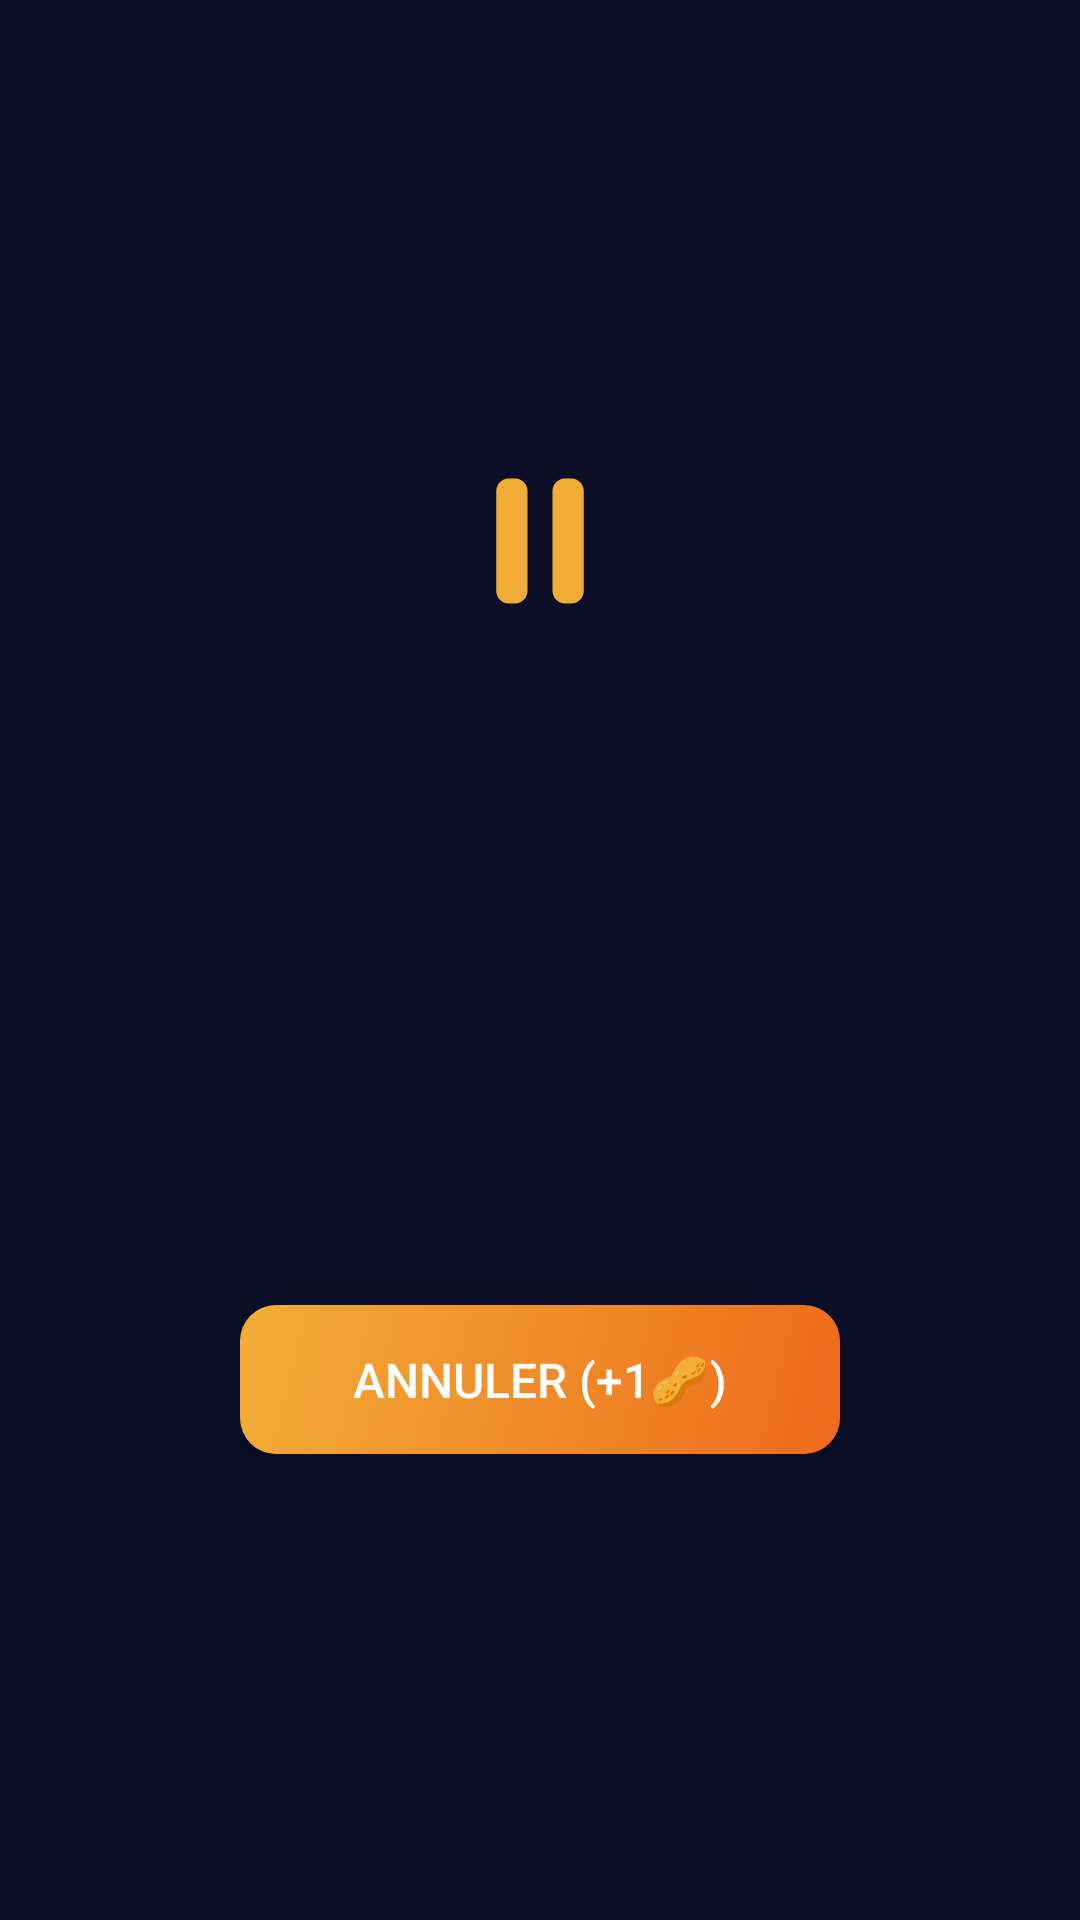

Icon bounding boxes for this 1080px x 1920px phone screenshot, format rect(x1, y1, x2, y2):
pause: rect(496, 478, 584, 604)
